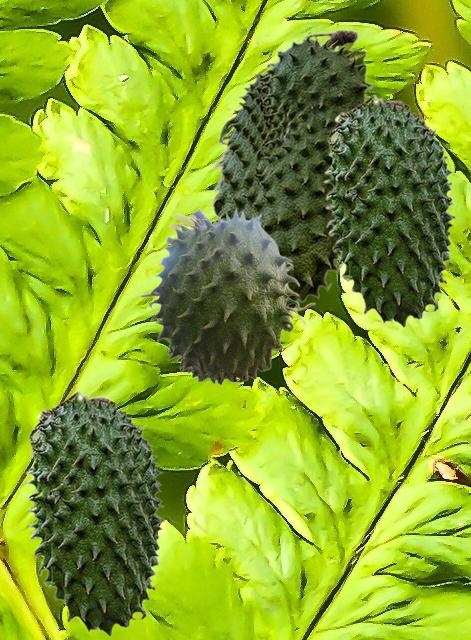guyabano: (210, 28, 372, 313), (24, 389, 165, 636), (139, 206, 315, 385), (323, 93, 456, 327)
